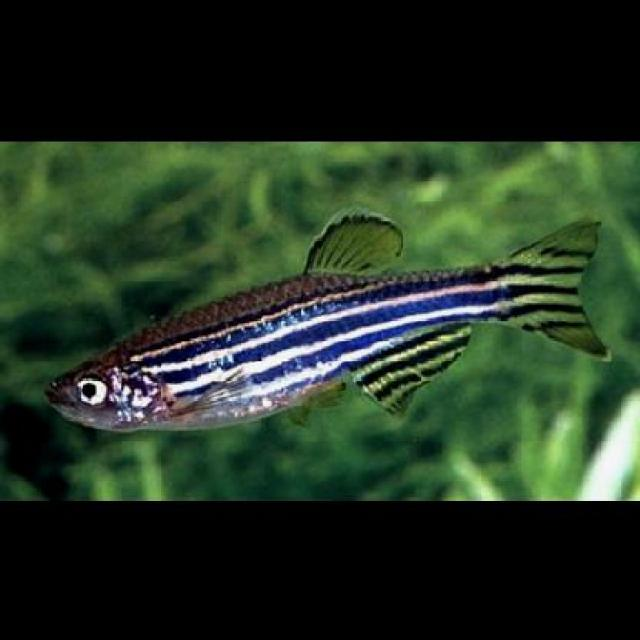ZebraFish: (44, 207, 605, 438)
